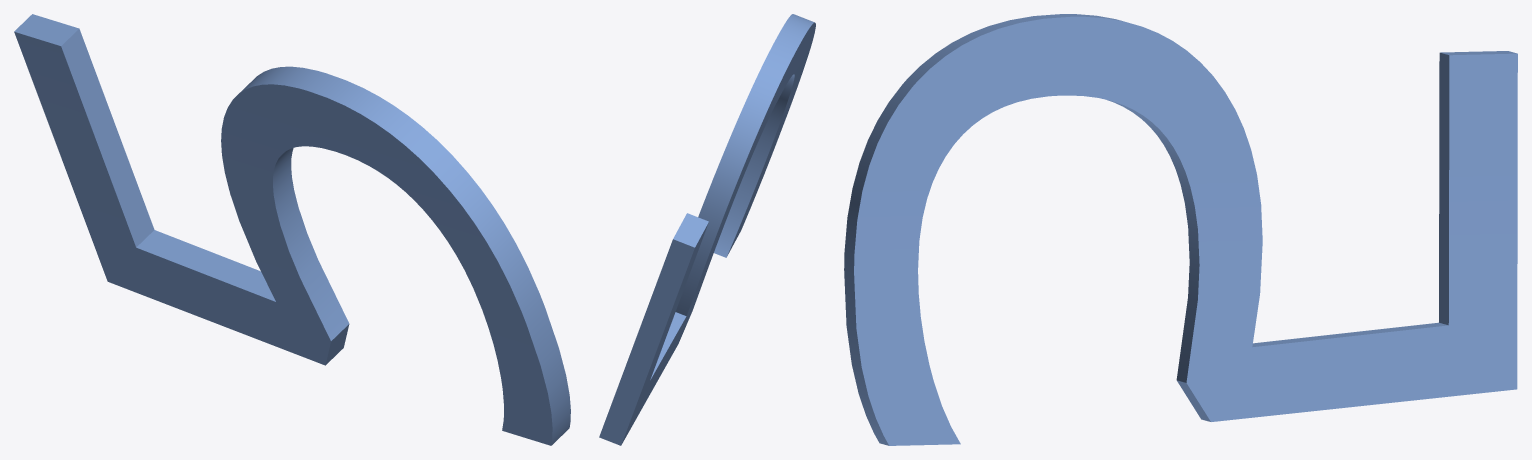
File: New_Number_5.gltf
The picture shows the model from 3 angles, left to right: view 1: azimuth 30°, elevation 25°; view 2: azimuth 150°, elevation 25°; view 3: azimuth 270°, elevation 25°; orthographic projection. The views are drawn at different scales.
Visible parts, largest first — view 1: Part 707; view 2: Part 707; view 3: Part 707.
Boxes of the visible parts, <box> form: Part 707: <box>14,14,570,445</box>; Part 707: <box>599,14,815,445</box>; Part 707: <box>844,14,1517,445</box>.
Bounding box in the file's own units: 0.00259 × 0.00337 × 0.00546.
